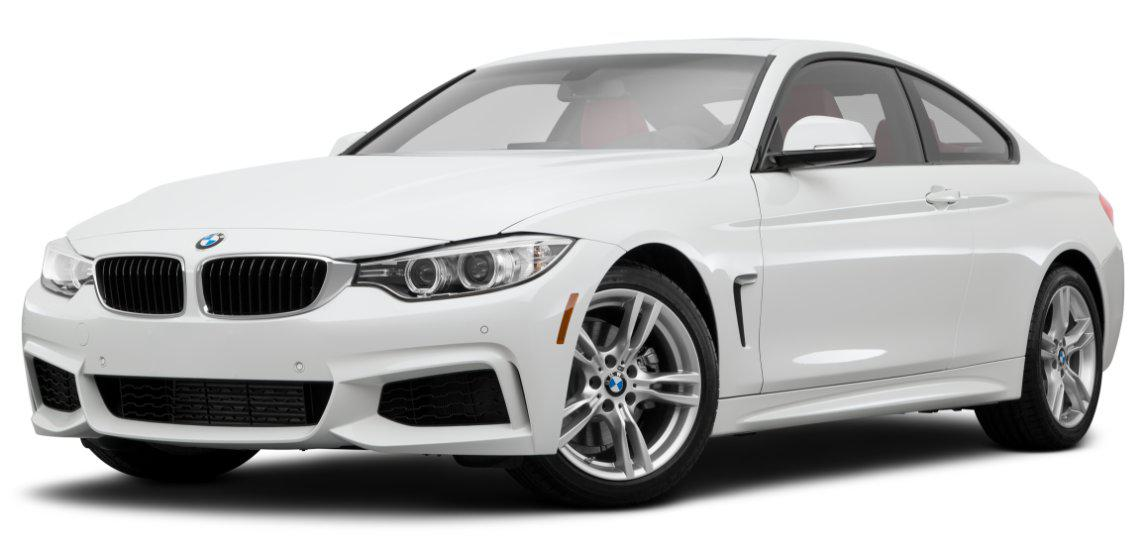bmw: (12, 19, 1143, 518)
